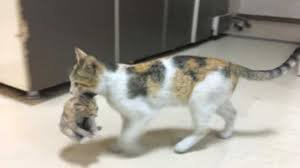cat: (69, 39, 259, 154)
